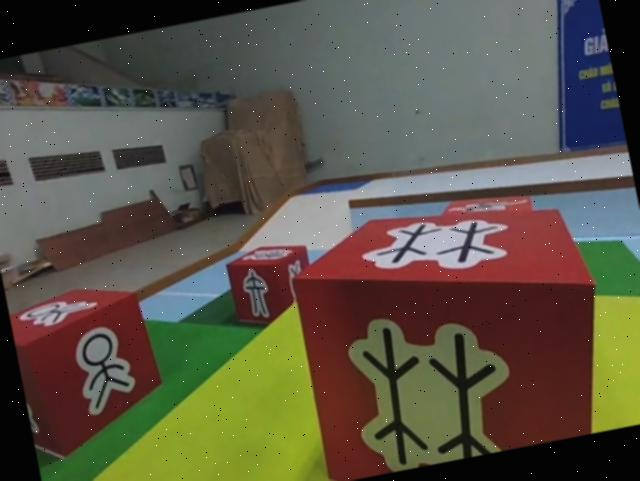R2 Fake: (218, 234, 321, 332)
R2 Real: (275, 172, 621, 481), (6, 274, 172, 463)
